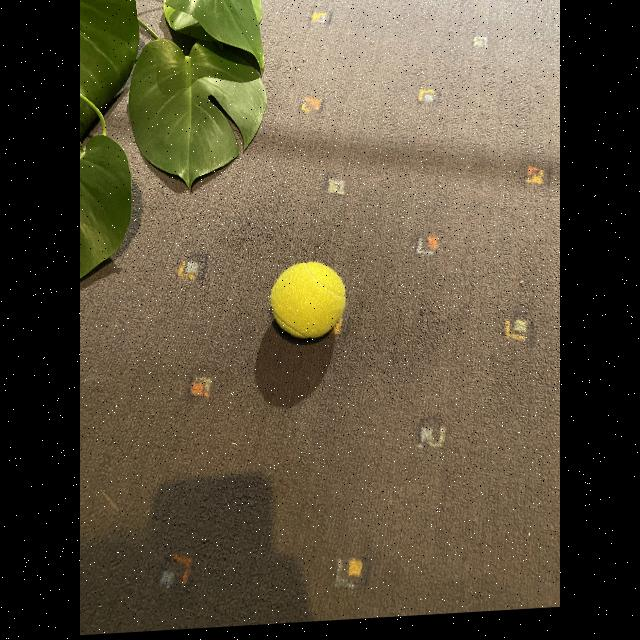Tennisball: (270, 262, 345, 339)
